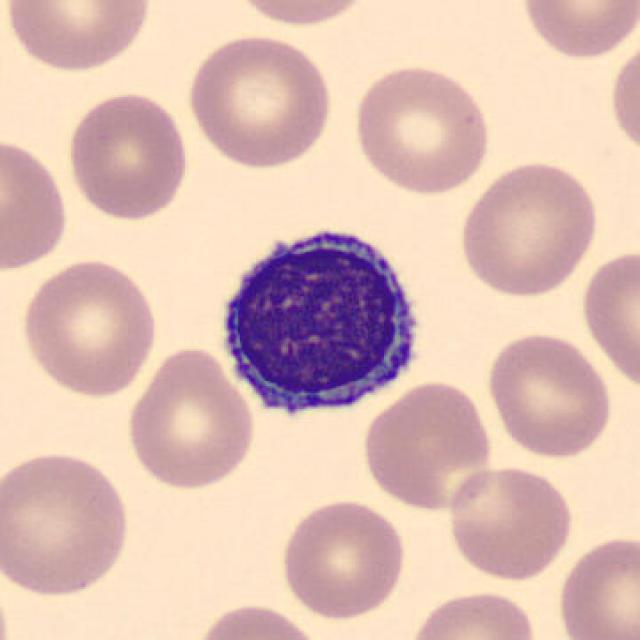Lymphocyte: (206, 214, 432, 431)
RBC: (183, 30, 336, 171), (16, 254, 160, 400), (455, 157, 601, 300), (123, 342, 260, 494), (0, 446, 135, 600), (348, 60, 494, 197), (359, 377, 498, 513), (482, 328, 617, 460), (62, 88, 192, 222), (277, 496, 409, 622), (443, 464, 576, 582), (2, 0, 156, 76), (0, 132, 71, 275), (553, 532, 638, 640), (578, 243, 638, 393), (516, 0, 638, 62), (406, 585, 540, 640), (190, 599, 326, 640), (224, 0, 379, 30), (606, 32, 640, 164)
